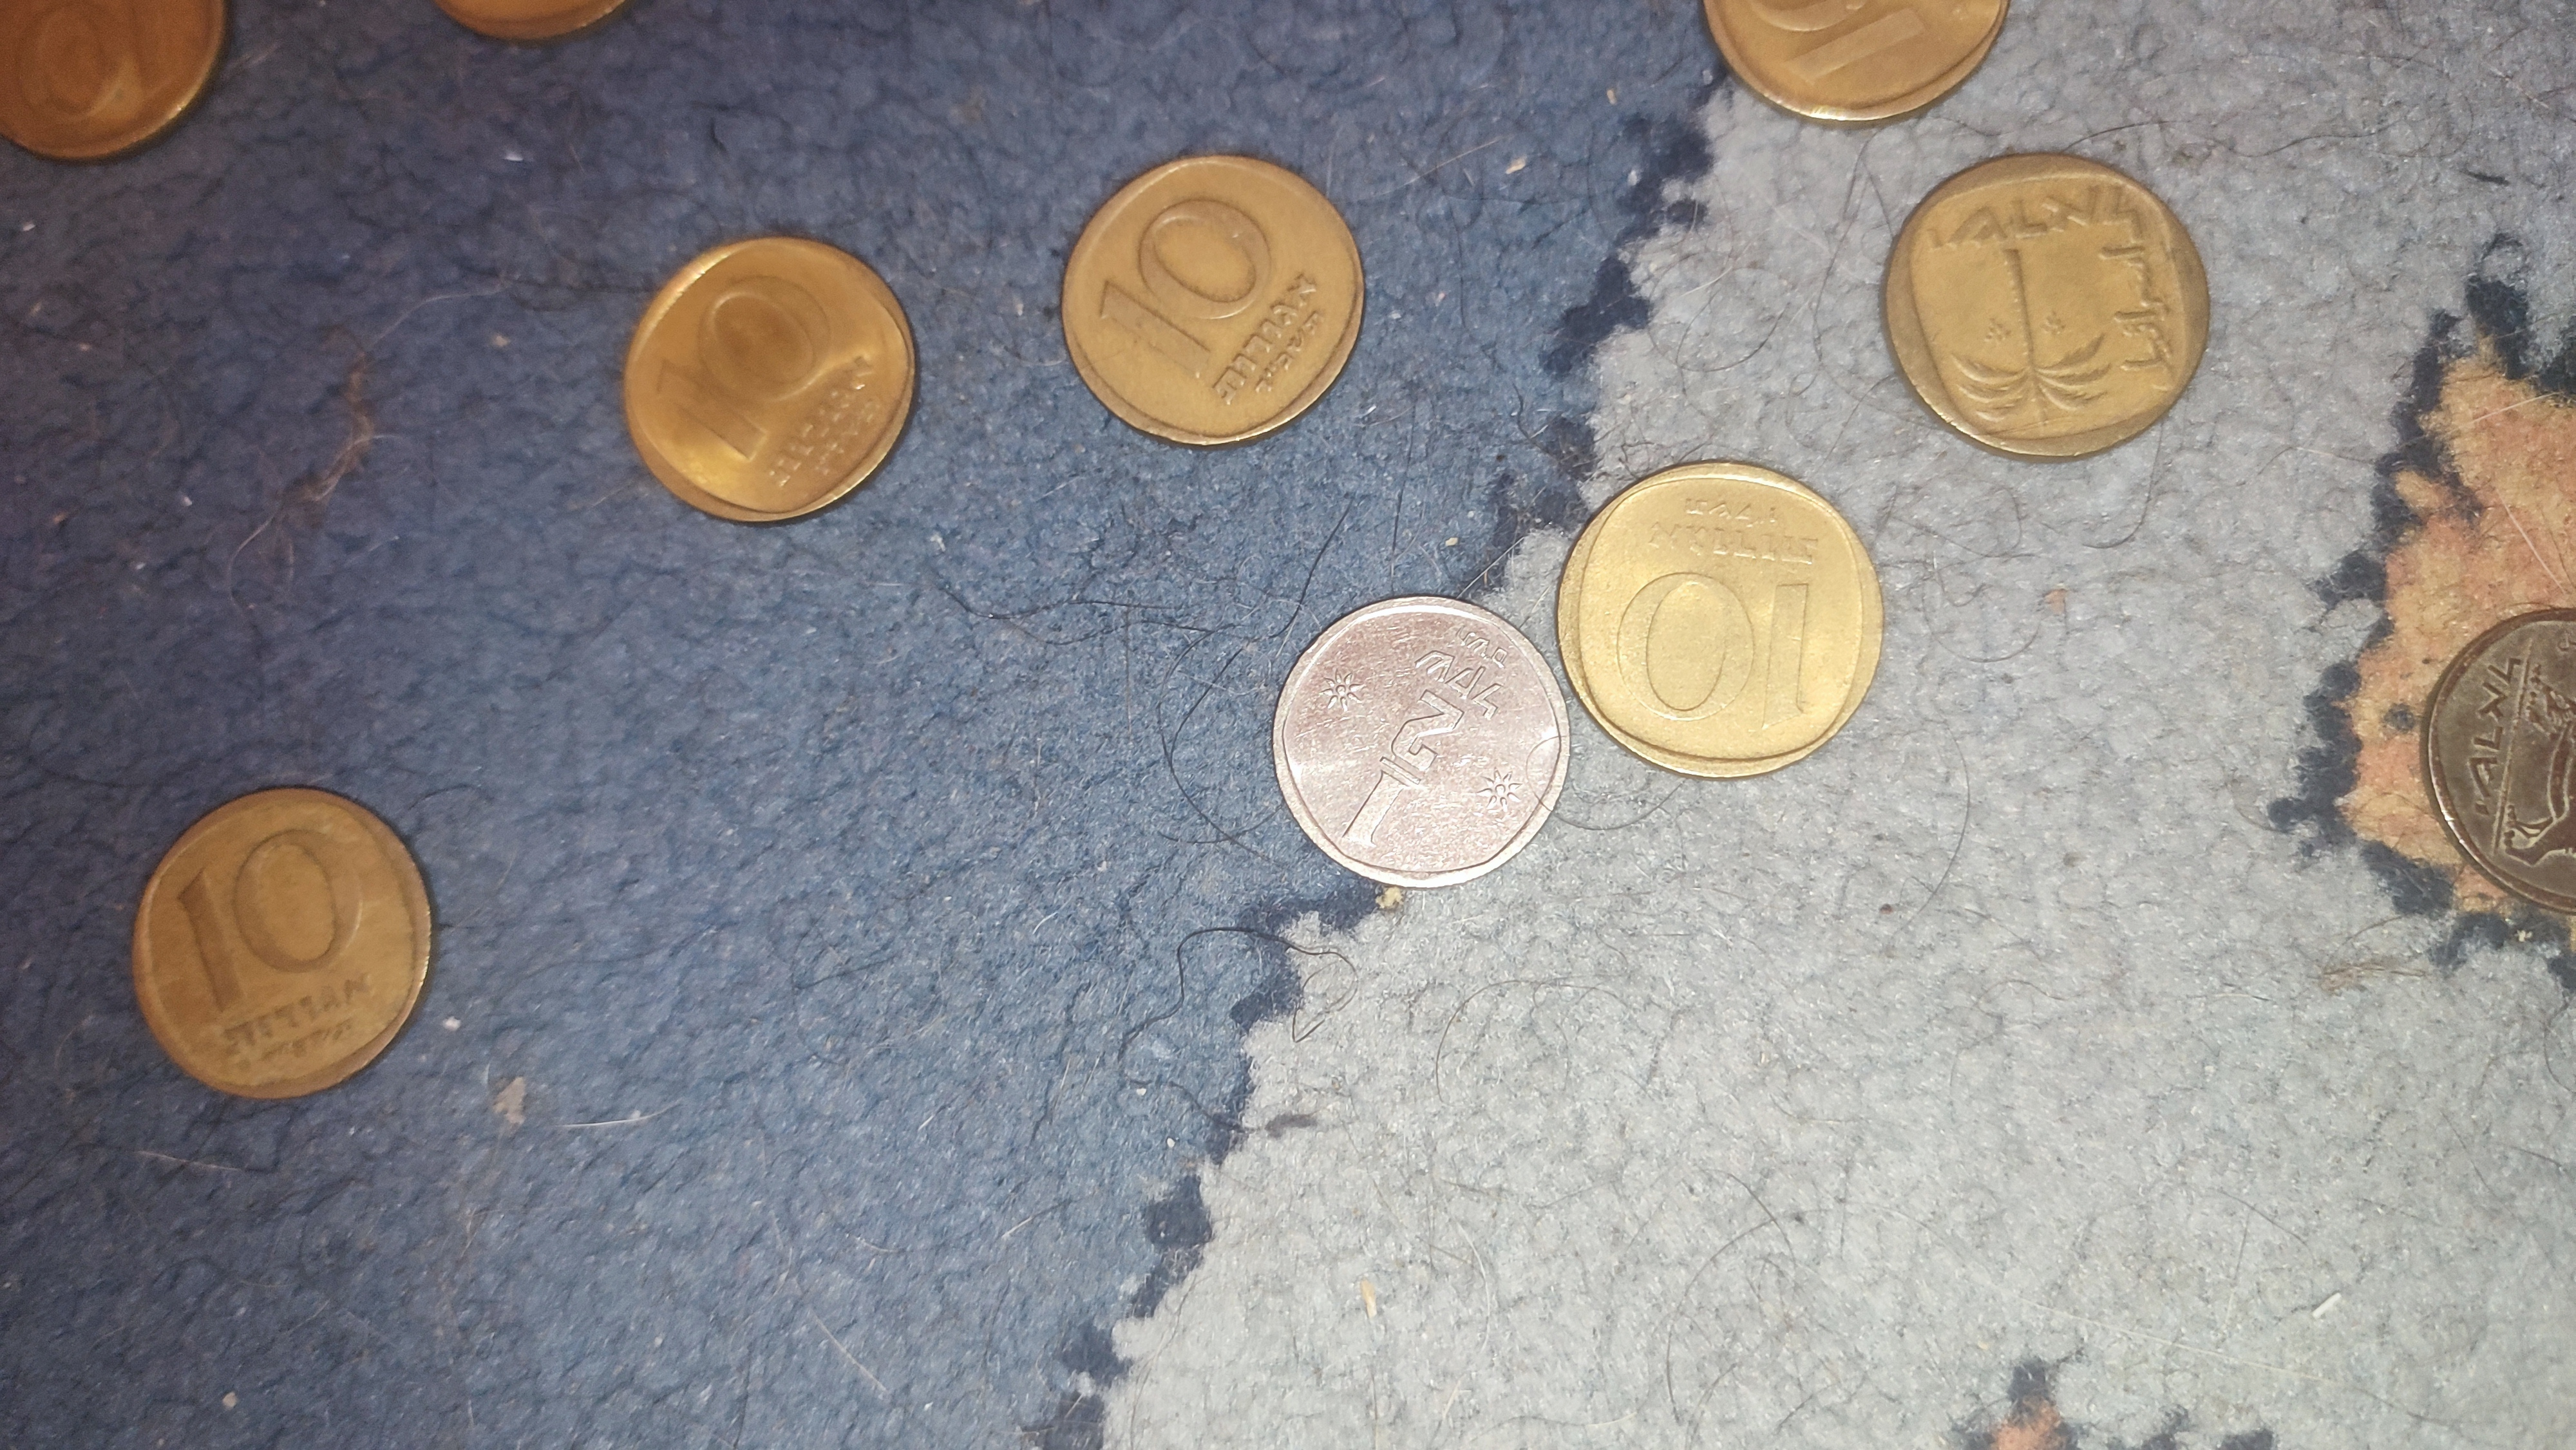1/2 old sheqel: (1269, 591, 1575, 895)
10 old agora brown: (1546, 454, 1893, 789), (1872, 145, 2222, 476), (117, 776, 442, 1107), (1049, 147, 1368, 453), (610, 226, 927, 532)
